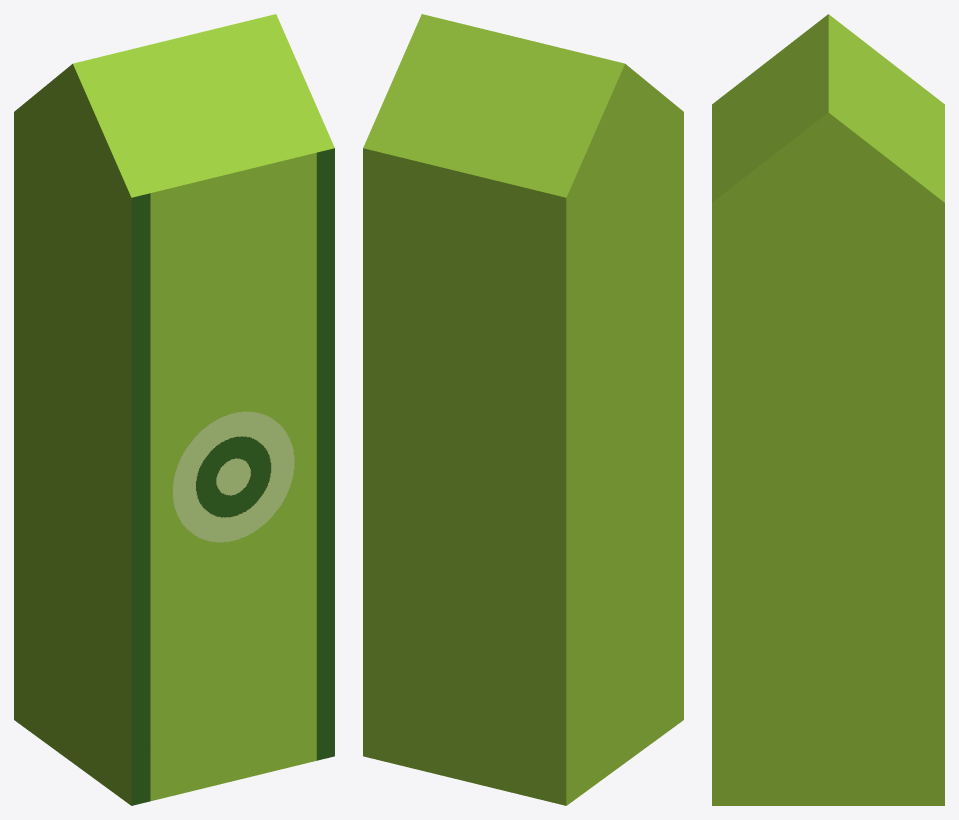
File: Apple_Juice.fbx
The picture shows the model from 3 angles, left to right: view 1: azimuth 30°, elevation 25°; view 2: azimuth 150°, elevation 25°; view 3: azimuth 270°, elevation 25°; orthographic projection.
Parts seen in each view (by area): view 1: Apple_Juice; view 2: Apple_Juice; view 3: Apple_Juice.
Boxes of the visible parts, left/top/right/bottom form: Apple_Juice: left=14, top=14, right=334, bottom=805; Apple_Juice: left=363, top=14, right=683, bottom=805; Apple_Juice: left=712, top=14, right=944, bottom=805.
Size of the model in its own units: 0.07 by 0.23 by 0.07.
2 materials, 1 textured.
